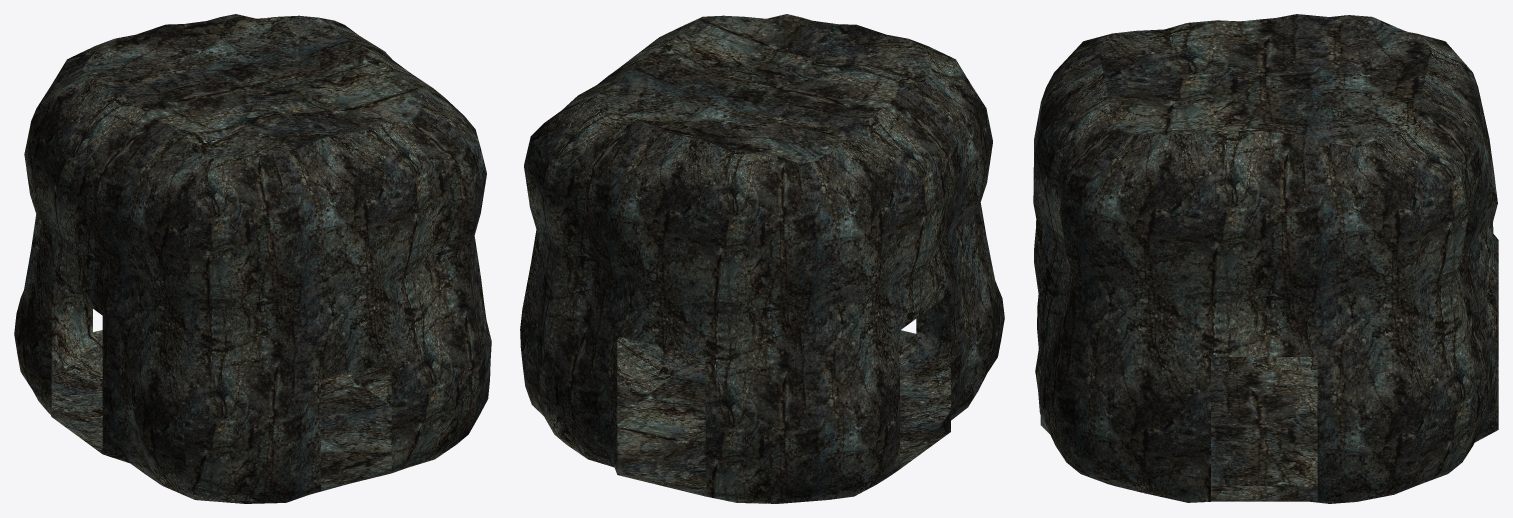
File: 02_06_medical_hub_special.dae
The picture shows the model from 3 angles, left to right: view 1: azimuth 30°, elevation 25°; view 2: azimuth 150°, elevation 25°; view 3: azimuth 270°, elevation 25°; orthographic projection. The views are drawn at different scales.
Visible parts, largest first — view 1: 02_06_medical_hub_special; view 2: 02_06_medical_hub_special; view 3: 02_06_medical_hub_special.
Part boxes in pixels (left/top/right/bottom): 02_06_medical_hub_special: left=14, top=14, right=491, bottom=503; 02_06_medical_hub_special: left=520, top=14, right=1004, bottom=503; 02_06_medical_hub_special: left=1033, top=14, right=1498, bottom=503.
Size of the model in its own units: 7.72 by 6.91 by 8.19.
